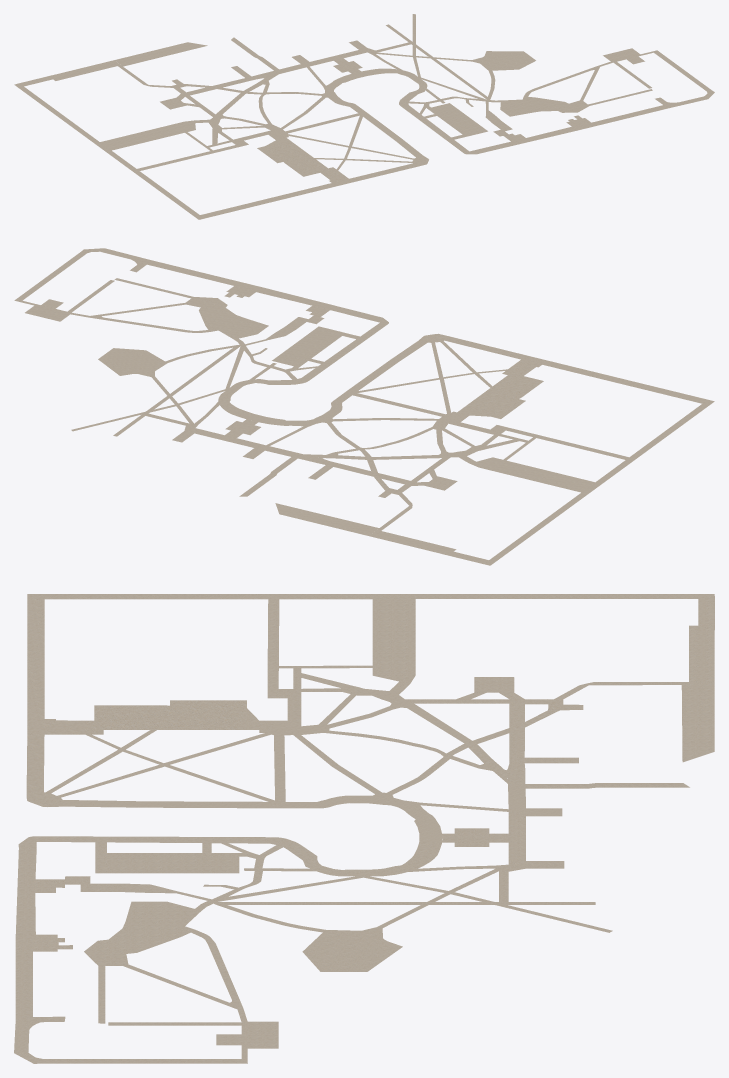
The model's file is SidewalksV8.gltf.
3 views of the same model, one above another, from view 1: azimuth 30°, elevation 25°; view 2: azimuth 150°, elevation 25°; view 3: azimuth 270°, elevation 25° (orthographic). The views are drawn at different scales.
Parts seen in each view (by area): view 1: Plane; view 2: Plane; view 3: Plane.
Part boxes in pixels (x1=…): Plane: x1=14, y1=14, x2=714, y2=219; Plane: x1=14, y1=248, x2=714, y2=565; Plane: x1=14, y1=594, x2=714, y2=1063.
Bounding box in the file's own units: 347 × 1.12e-05 × 219.
1 material, 1 textured.
